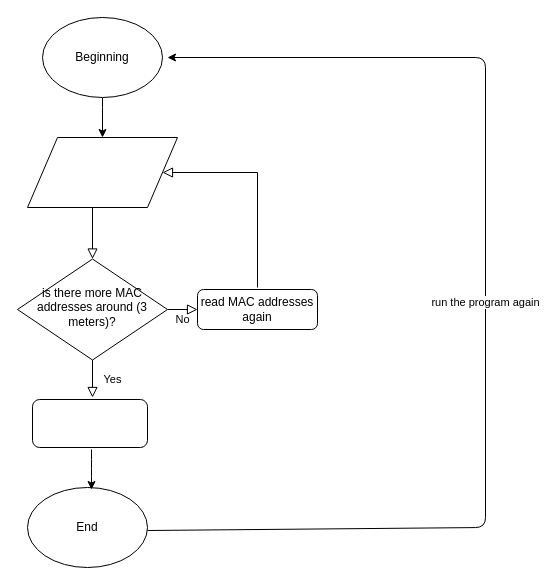
The diagram is 557 pixels wide and 585 high, and some of its shapes have lost their labels. Each missing label, with the box of its shape:
Alerting sound: (32, 398, 148, 448)
the MAC address as input: (26, 136, 178, 208)
